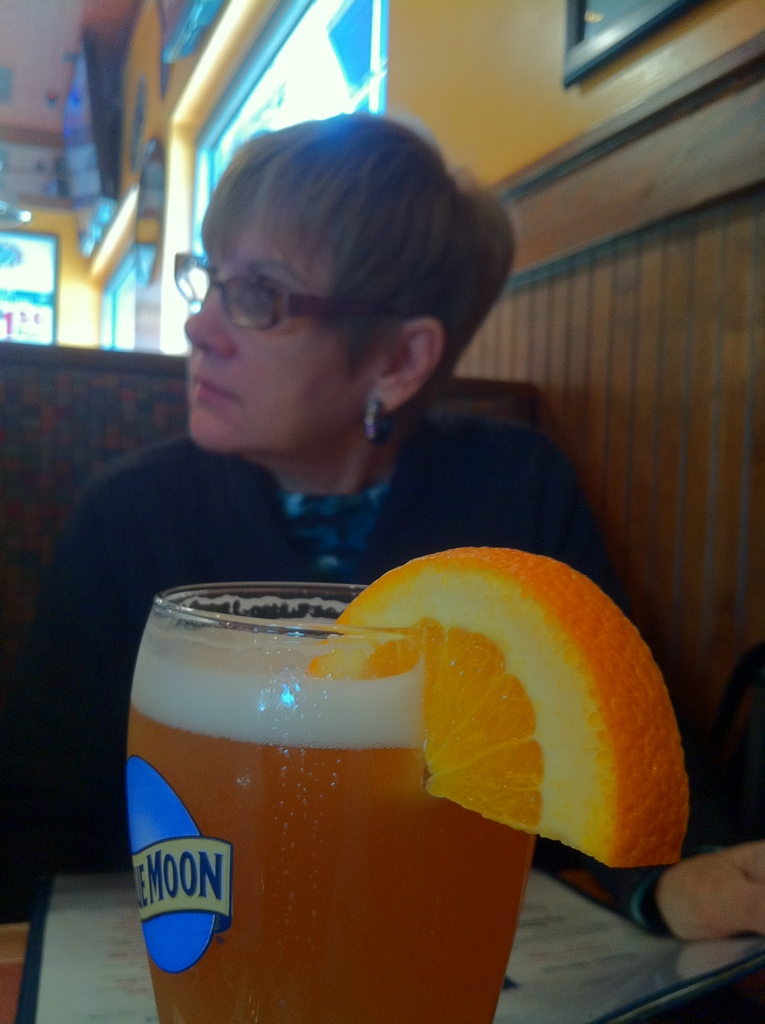Ripe: (312, 541, 688, 868)
